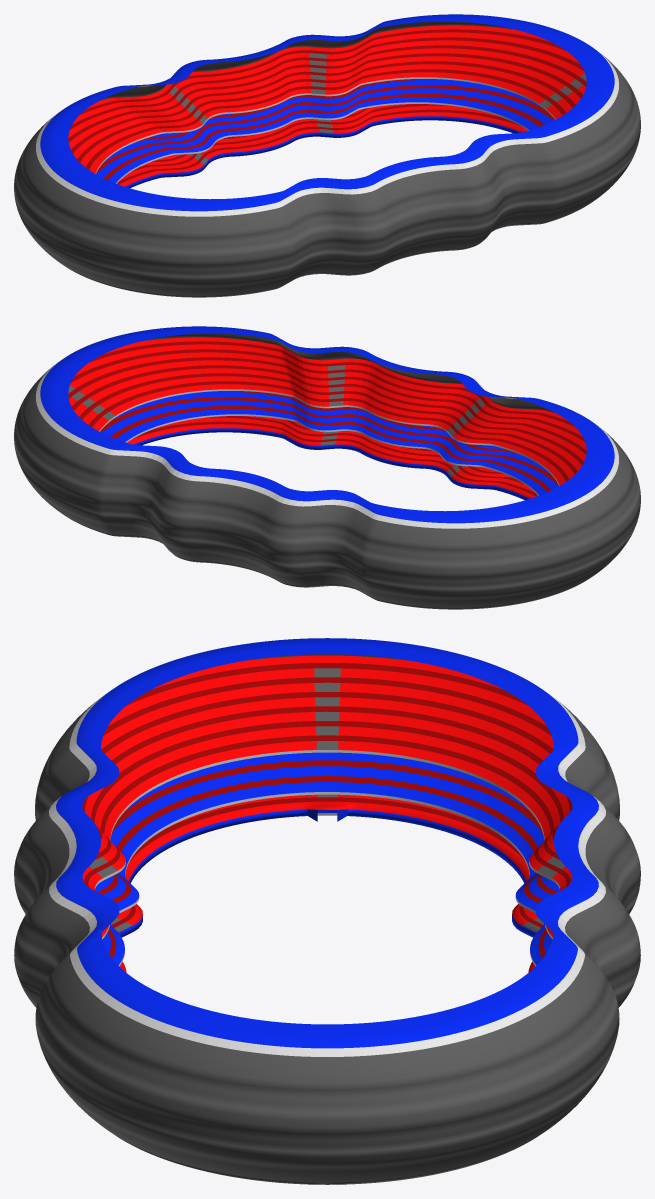
File: TheApples_Stadium.fbx
3 views of the same model, one above another, from view 1: azimuth 30°, elevation 25°; view 2: azimuth 150°, elevation 25°; view 3: azimuth 270°, elevation 25° (orthographic). The views are drawn at different scales.
Parts seen in each view (by area): view 1: Sphere; view 2: Sphere; view 3: Sphere.
Part boxes in pixels (x1,y1,x2,y2): Sphere: (14,14,640,297); Sphere: (14,326,640,609); Sphere: (14,638,640,1184).
Size of the model in its own units: 36000 by 5291 by 21413.
